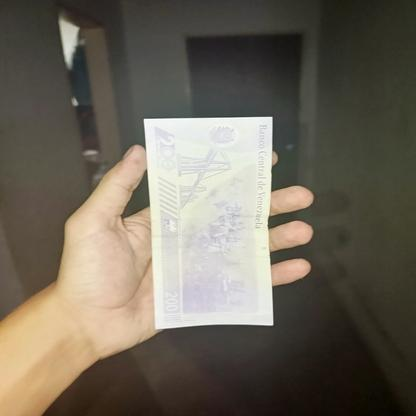two_hundred-back-vef: (143, 115, 274, 330)
